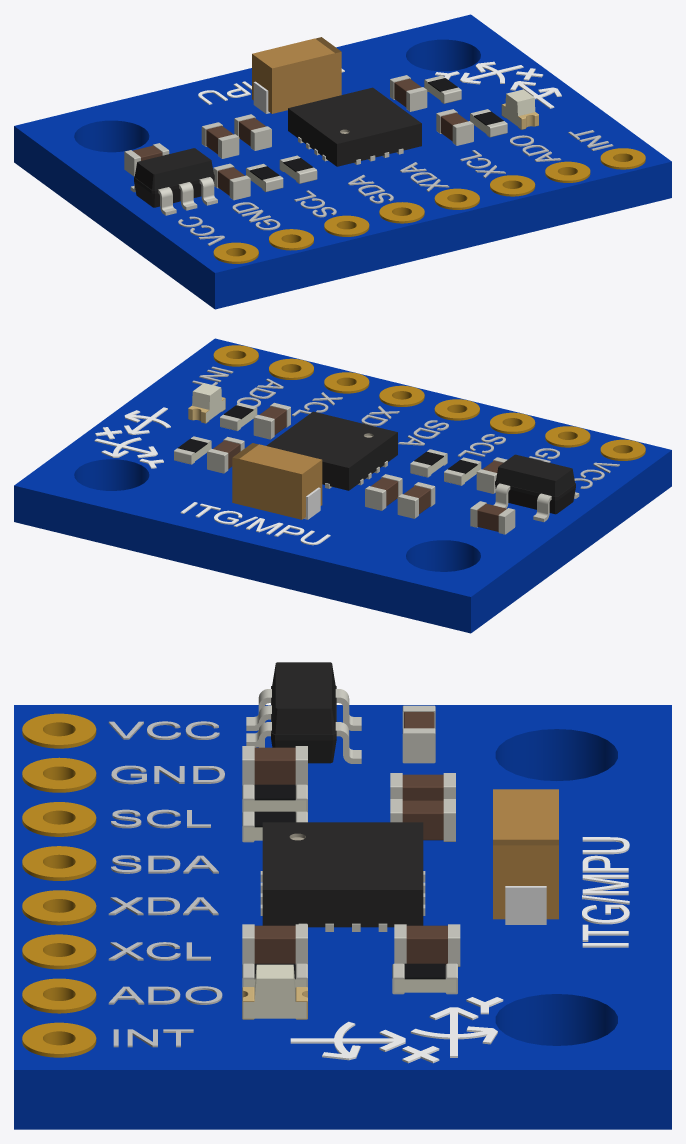
File: GY_521_MPU6050.gltf
3 renders of one model, top to bottom at view 1: azimuth 30°, elevation 25°; view 2: azimuth 150°, elevation 25°; view 3: azimuth 270°, elevation 25°, orthographic. The views are drawn at different scales.
Visible parts, largest first — view 1: PCB, QFN_16_1EP_4x4mm_P065mm_EP21x21mm, Corps002, SOT_23_5, LED_0603_1608Metric_Castellated, C_0603_1608Metric003, C_0603_1608Metric, C_0603_1608Metric001, C_0603_1608Metric004, C_0603_1608Metric002, trou004, trou006 (+13 smaller); view 2: PCB, QFN_16_1EP_4x4mm_P065mm_EP21x21mm, Corps002, SOT_23_5, C_0603_1608Metric005, LED_0603_1608Metric_Castellated, C_0603_1608Metric003, C_0603_1608Metric, C_0603_1608Metric002, C_0603_1608Metric001, trou002, trou004 (+13 smaller); view 3: PCB, QFN_16_1EP_4x4mm_P065mm_EP21x21mm, SOT_23_5, Corps002, LED_0603_1608Metric_Castellated, C_0603_1608Metric001, C_0603_1608Metric, C_0603_1608Metric004, trou006, trou008, trou007, C_0603_1608Metric002 (+15 smaller).
Part boxes in pixels (bbox=[...]): PCB: bbox=[14, 14, 671, 309]; QFN_16_1EP_4x4mm_P065mm_EP21x21mm: bbox=[288, 87, 421, 166]; Corps002: bbox=[252, 37, 341, 113]; SOT_23_5: bbox=[130, 148, 217, 215]; LED_0603_1608Metric_Castellated: bbox=[501, 89, 538, 129]; C_0603_1608Metric003: bbox=[201, 122, 239, 158]; C_0603_1608Metric: bbox=[436, 109, 473, 145]; C_0603_1608Metric001: bbox=[390, 75, 427, 111]; C_0603_1608Metric004: bbox=[213, 163, 250, 200]; C_0603_1608Metric002: bbox=[234, 114, 271, 150]; trou004: bbox=[379, 202, 424, 223]; trou006: bbox=[490, 175, 535, 196]; PCB: bbox=[14, 338, 671, 633]; QFN_16_1EP_4x4mm_P065mm_EP21x21mm: bbox=[266, 411, 397, 490]; Corps002: bbox=[232, 443, 322, 519]; SOT_23_5: bbox=[493, 454, 579, 522]; C_0603_1608Metric005: bbox=[470, 501, 515, 534]; LED_0603_1608Metric_Castellated: bbox=[188, 383, 225, 423]; C_0603_1608Metric003: bbox=[397, 482, 435, 518]; C_0603_1608Metric: bbox=[253, 402, 290, 439]; C_0603_1608Metric002: bbox=[365, 474, 402, 510]; C_0603_1608Metric001: bbox=[207, 436, 244, 473]; trou002: bbox=[545, 426, 590, 447]; trou004: bbox=[434, 399, 479, 420]; PCB: bbox=[14, 705, 671, 1129]; QFN_16_1EP_4x4mm_P065mm_EP21x21mm: bbox=[260, 822, 425, 931]; SOT_23_5: bbox=[246, 662, 361, 763]; Corps002: bbox=[493, 789, 558, 919]; LED_0603_1608Metric_Castellated: bbox=[242, 964, 307, 1019]; C_0603_1608Metric001: bbox=[394, 924, 460, 966]; C_0603_1608Metric: bbox=[242, 924, 307, 964]; C_0603_1608Metric004: bbox=[242, 746, 307, 785]; trou006: bbox=[22, 934, 96, 969]; trou008: bbox=[22, 1022, 96, 1057]; trou007: bbox=[22, 978, 96, 1013]; C_0603_1608Metric002: bbox=[390, 799, 455, 841].
Bounding box in the file's own units: 0.021 × 0.0038 × 0.016.
